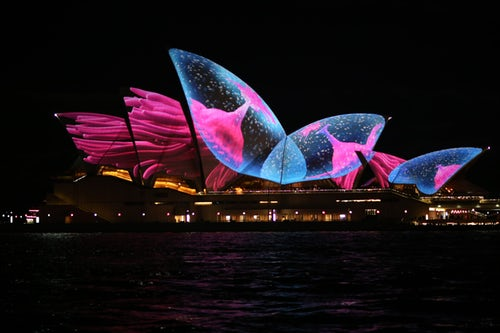opera house: (48, 45, 494, 229)
